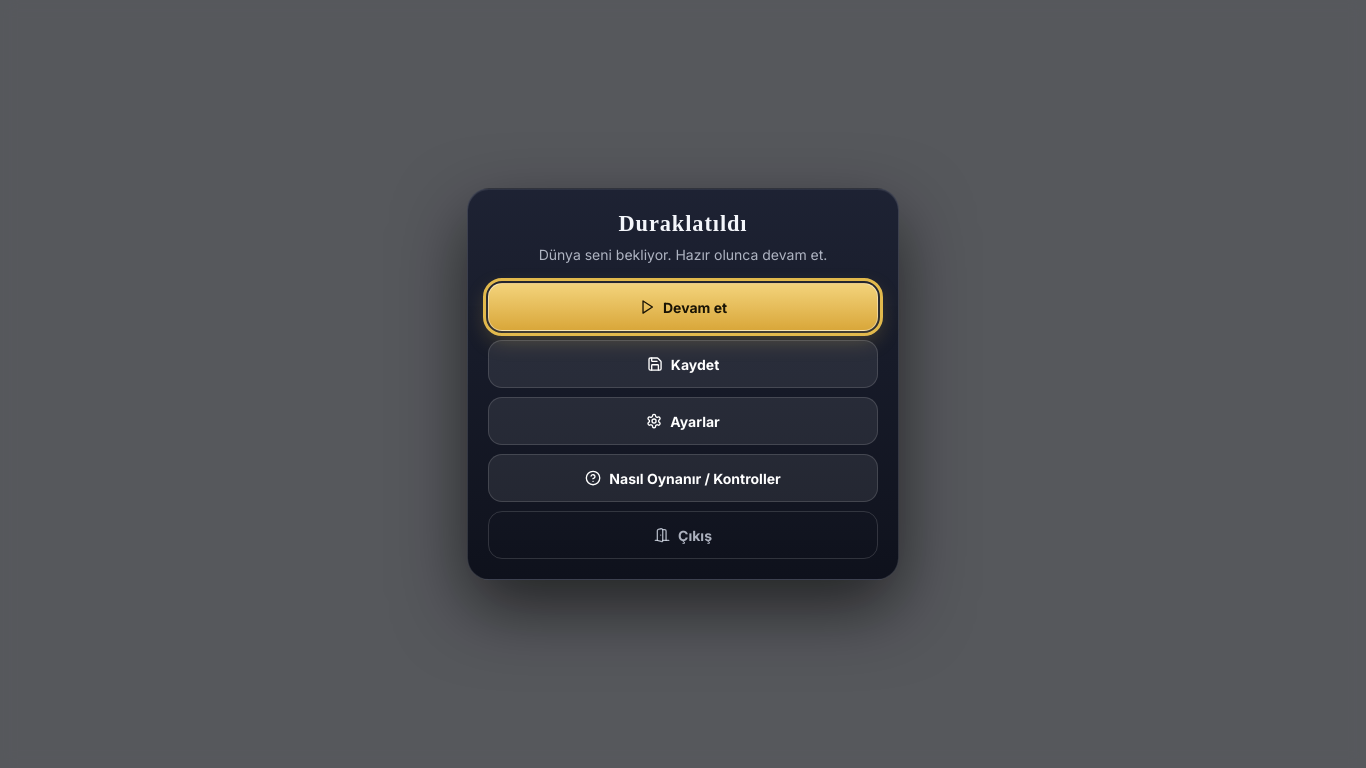
Test: Nasıl Oynanır paneli (duraklatma menüsü) › klavye sekmesi dokunmatikte de seçilebilir
Click the button "Nasıl Oynanır / Kontroller" at coordinates (683, 478), box [488,454,878,502]
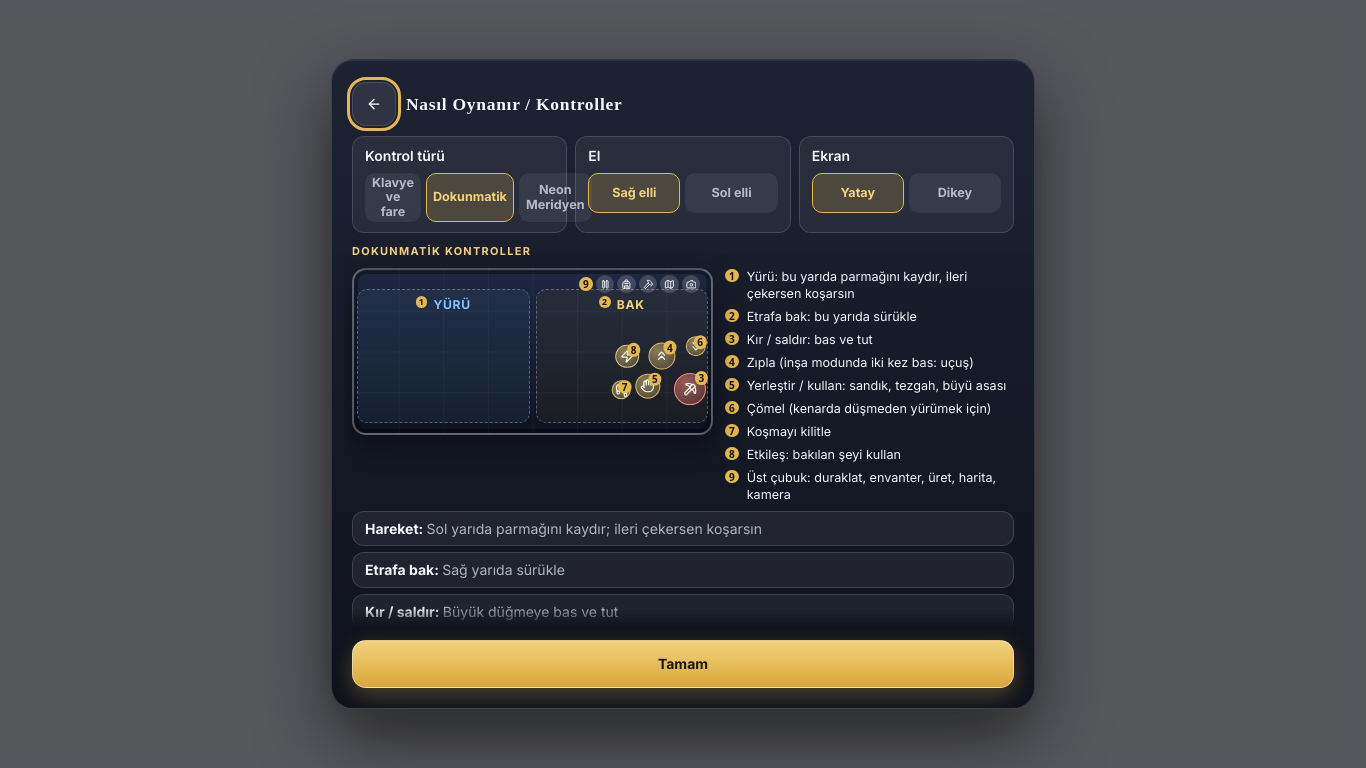
Click the button "Klavye ve fare" at coordinates (393, 198), box [365,173,421,223]
(page scrolled)
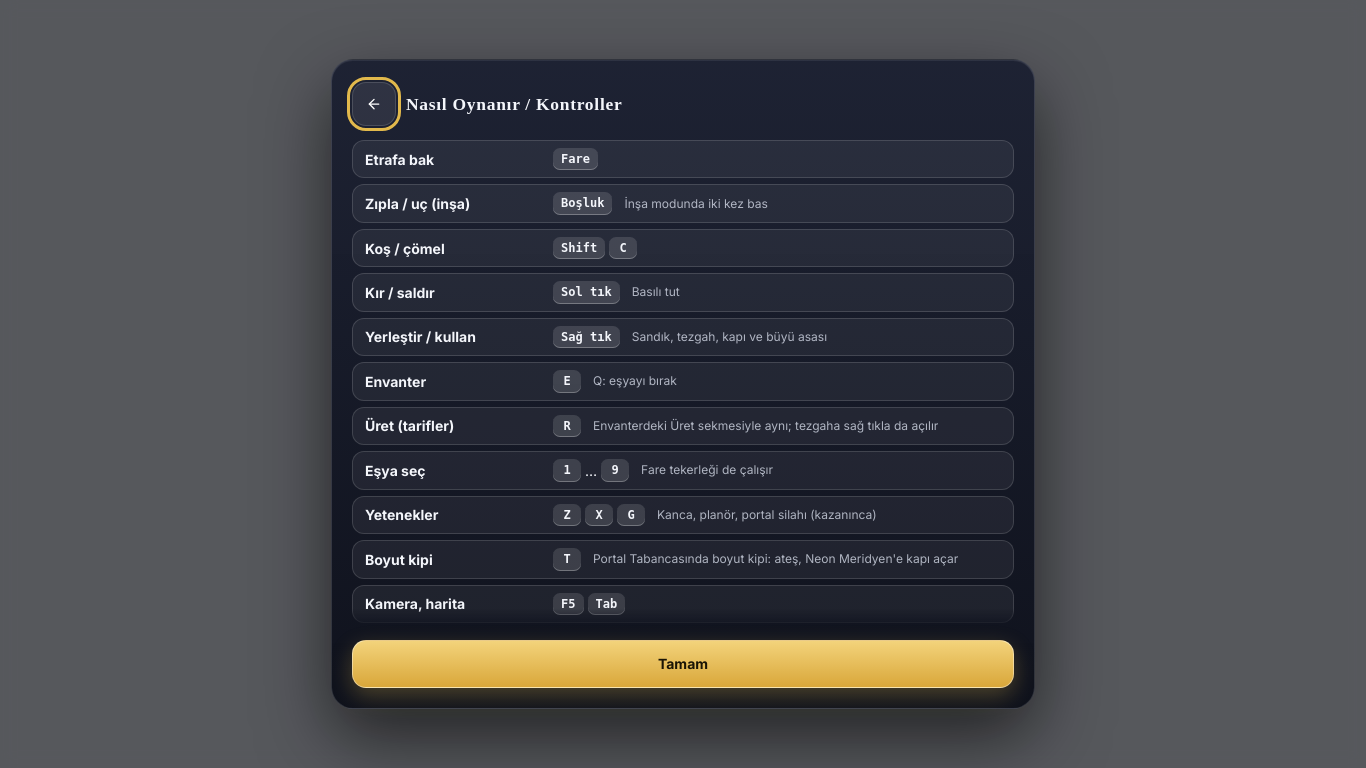
Now the list named "Klavye ve fare kontrolleri" is shown, box [352,136,1014,628]
